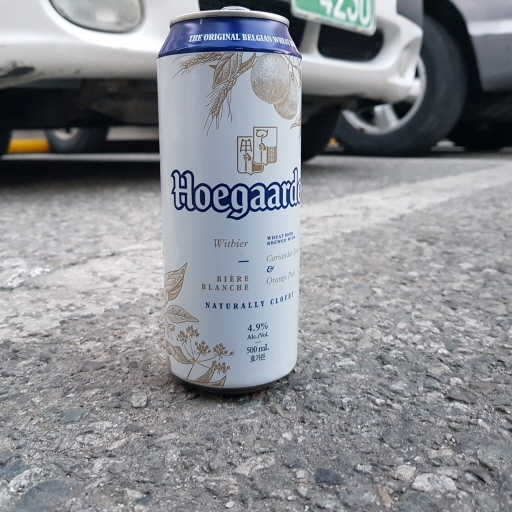Metal_0: (154, 8, 305, 391)
